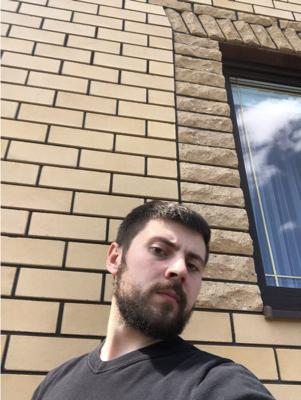without_mask: (115, 233, 205, 341)
